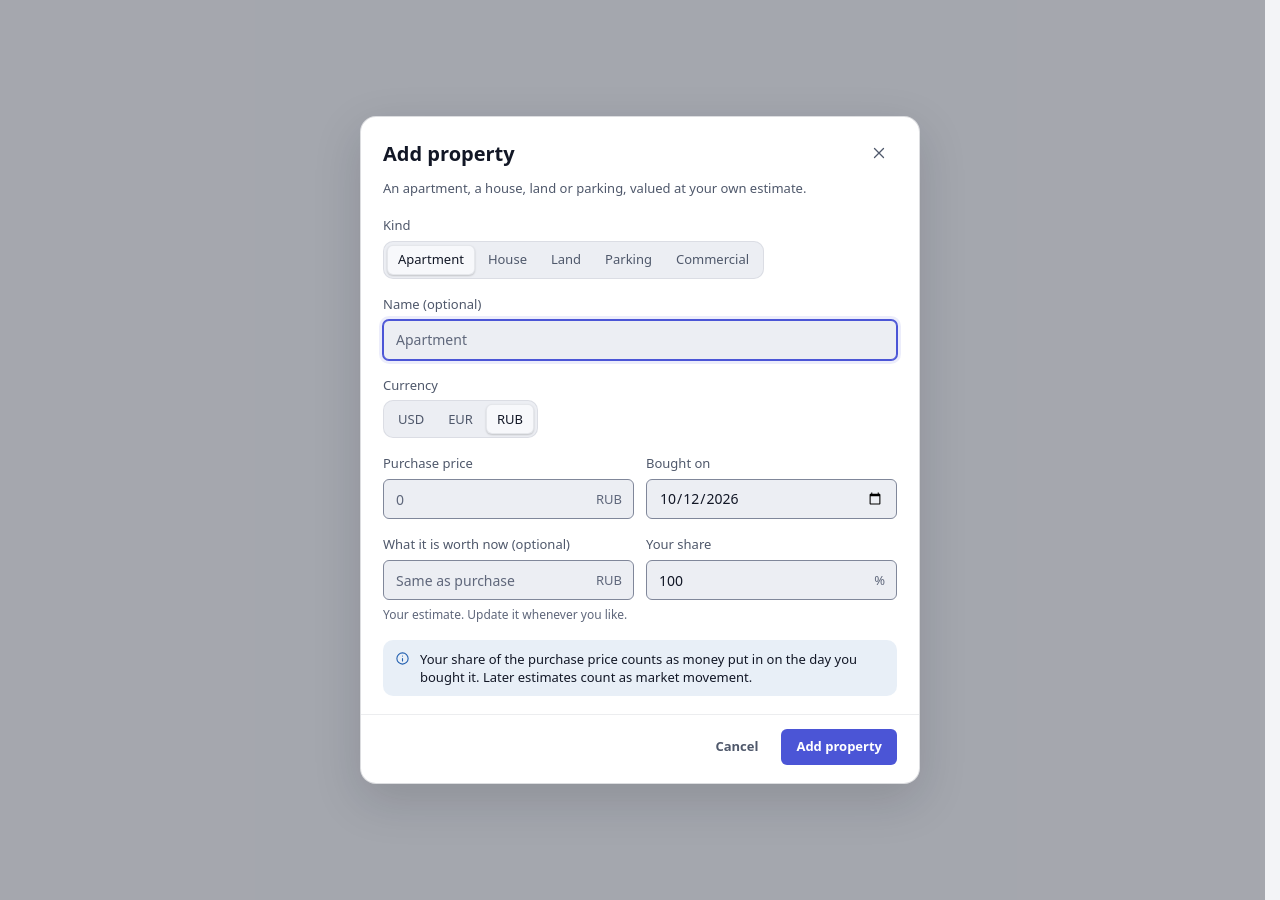
Test: PROPERTY-ADD Add property › shows what is missing and saves nothing
The width and height of the screenshot is (1280, 900).
Replace the text in the field labelled "Your share" with "0". click: x=772, y=580
box: [646,560,897,600]
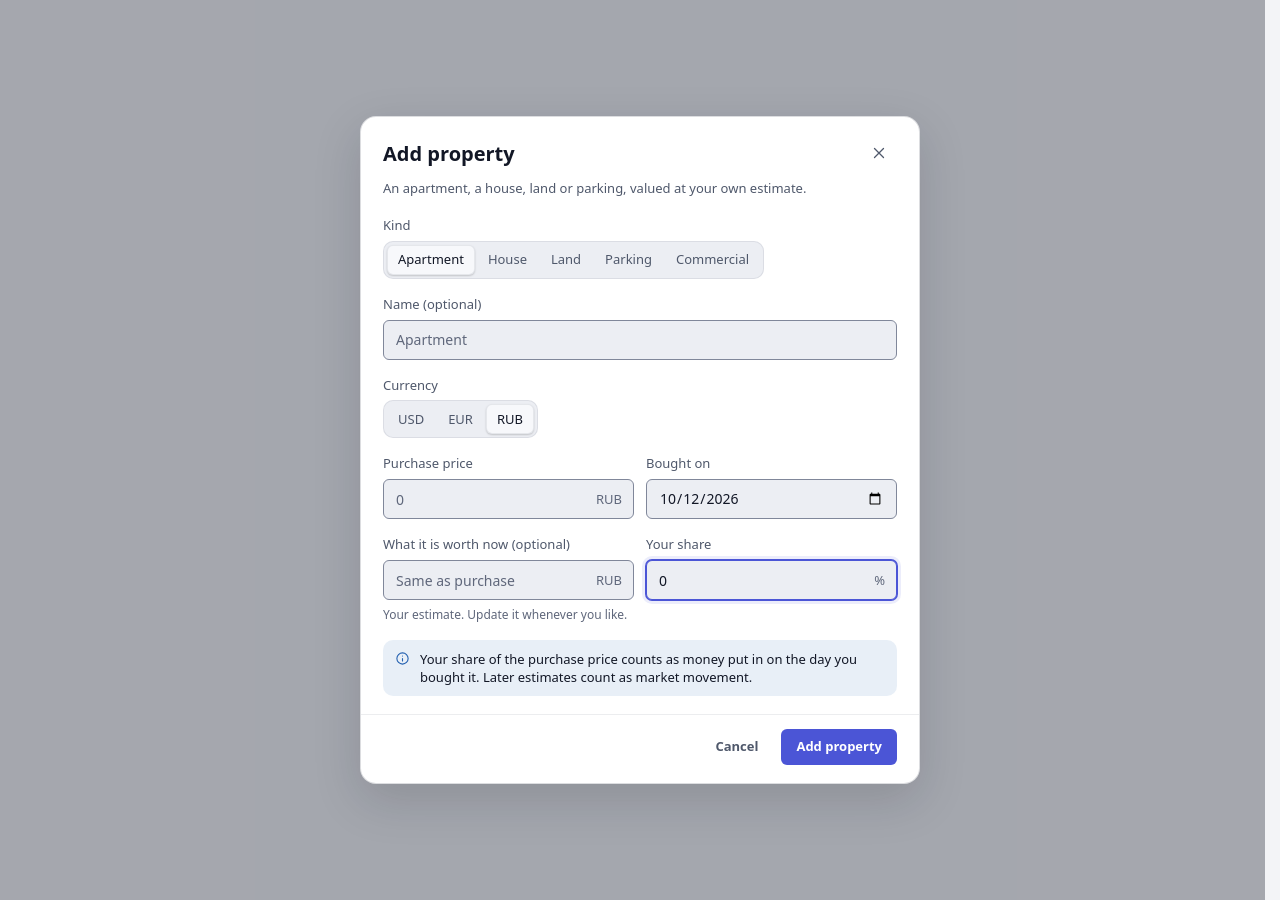
Type "2026-10-13" into the date field labelled "Bought on". click: x=772, y=499
box: [646,479,897,519]
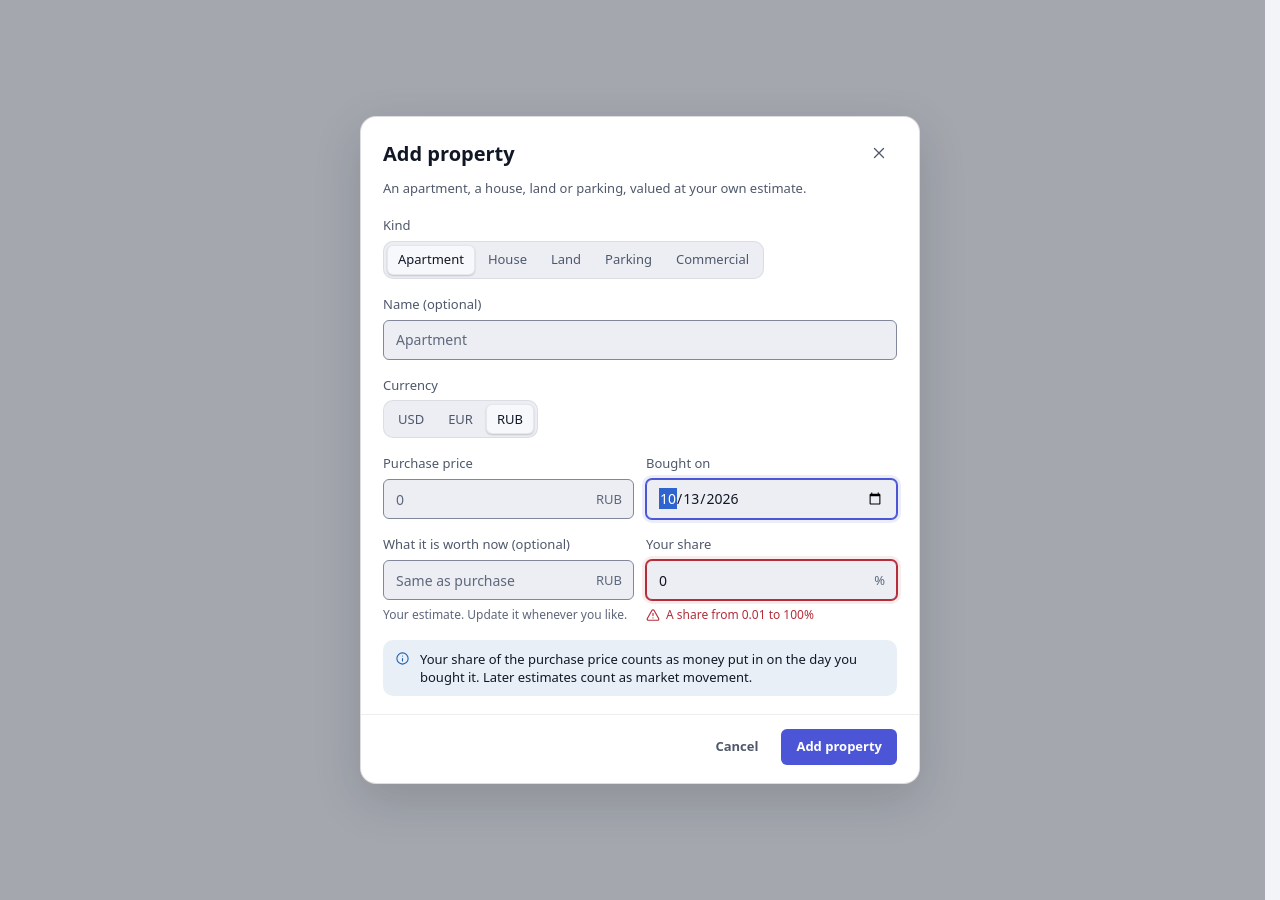
Click the button "Add property". click: x=839, y=747
box: [781,729,897,765]
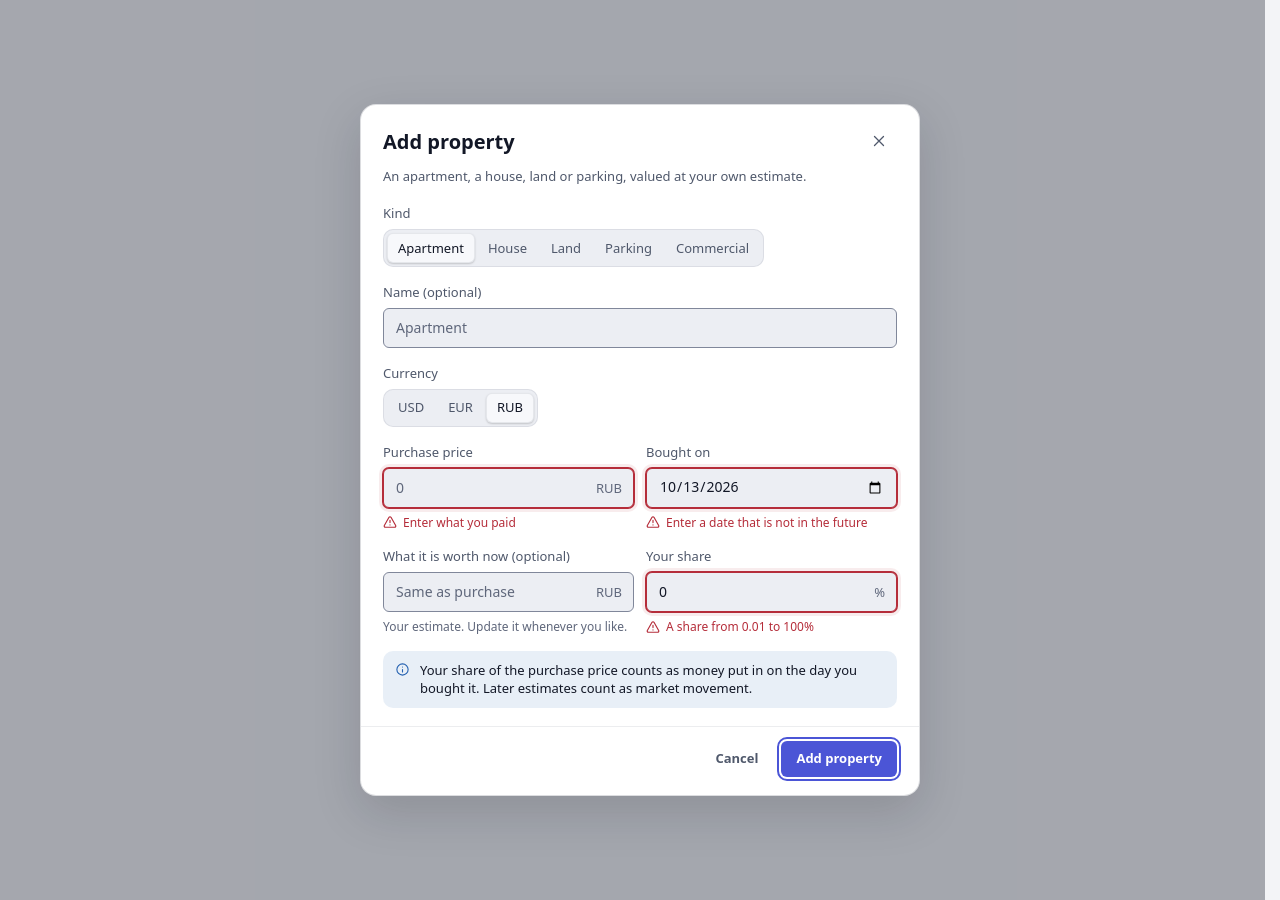
Now the text "A share from 0.01 to 100%" is shown, box [666,618,814,635]
Now the text "Enter what you paid" is shown, box [403,514,516,531]
Now the text "Enter a date that is not in the future" is shown, box [666,514,868,531]
